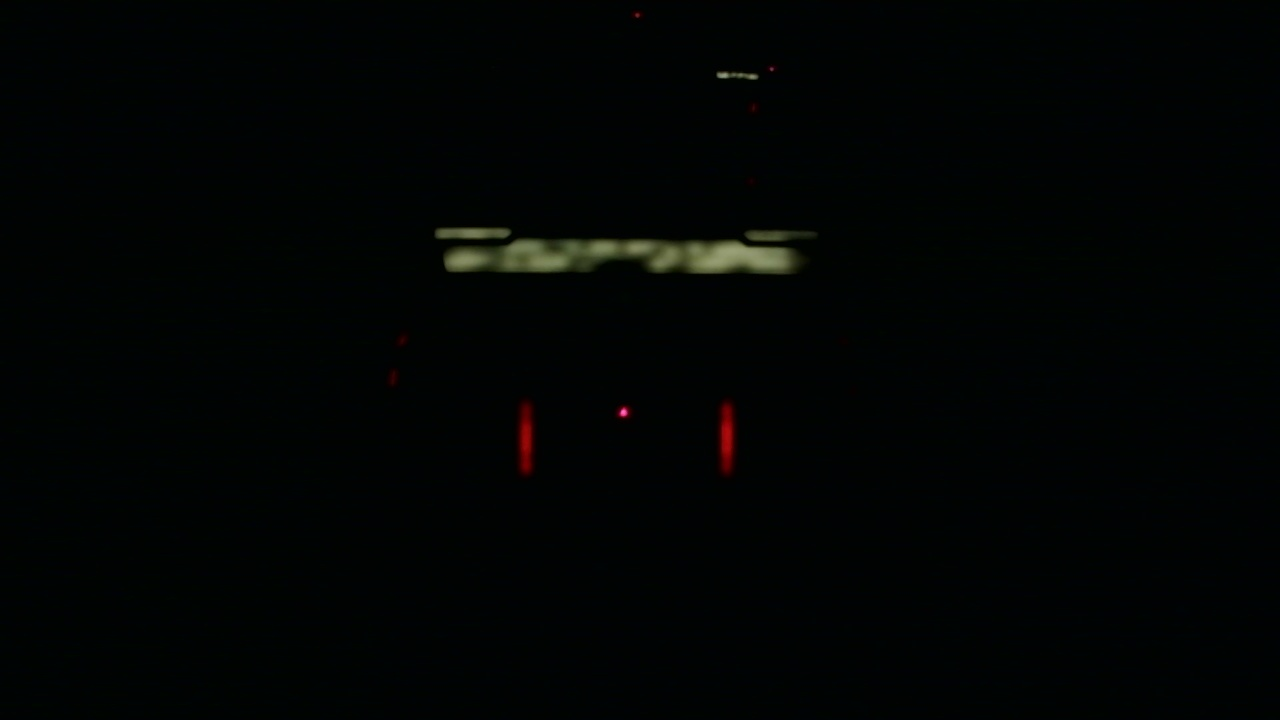lamp: (716, 400, 736, 476), (522, 399, 536, 475)
pair1: (519, 401, 735, 476)
